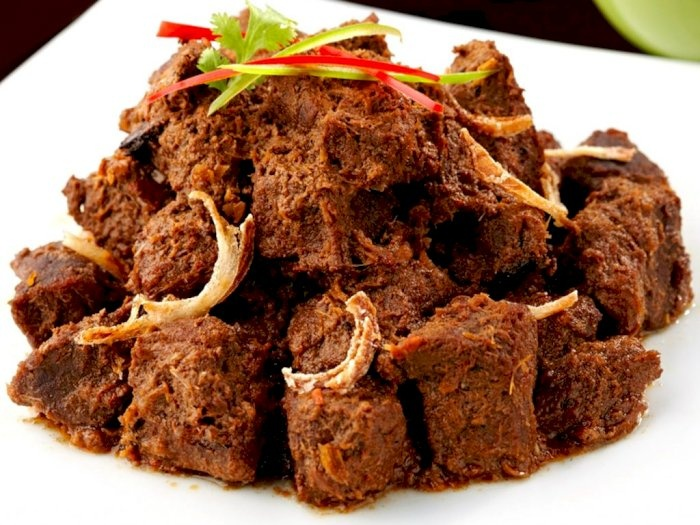Rendang: (7, 8, 694, 513)
